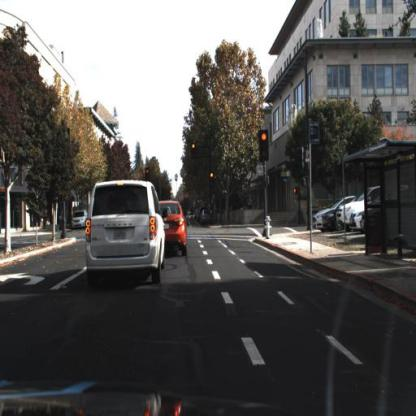car: (81, 172, 170, 287), (163, 199, 190, 259), (337, 185, 369, 228)
trafficLight-Red: (257, 126, 271, 166), (191, 142, 199, 168), (209, 170, 218, 192)
trafficLight-RedLeft: (144, 168, 153, 184)
